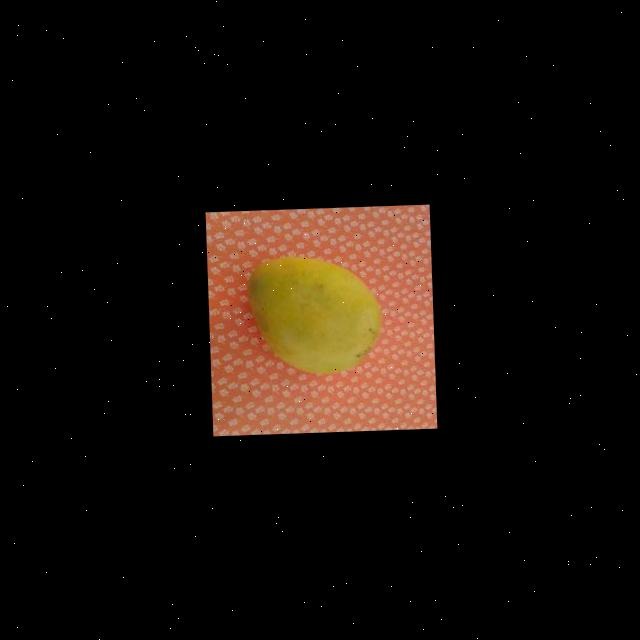Mango: (246, 252, 383, 376)
